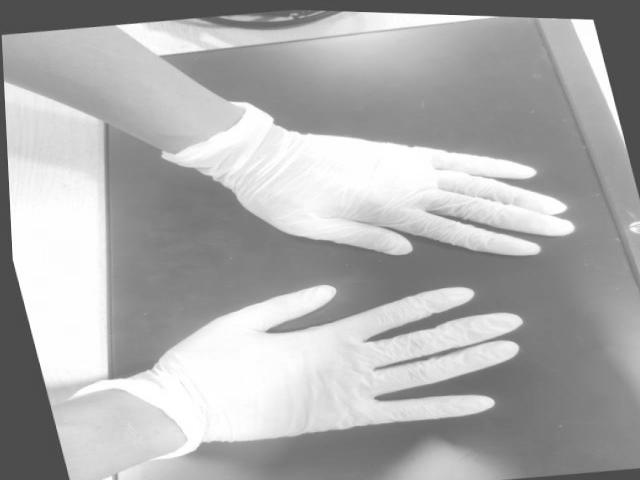gloved: (192, 284, 524, 445), (278, 126, 576, 260)
